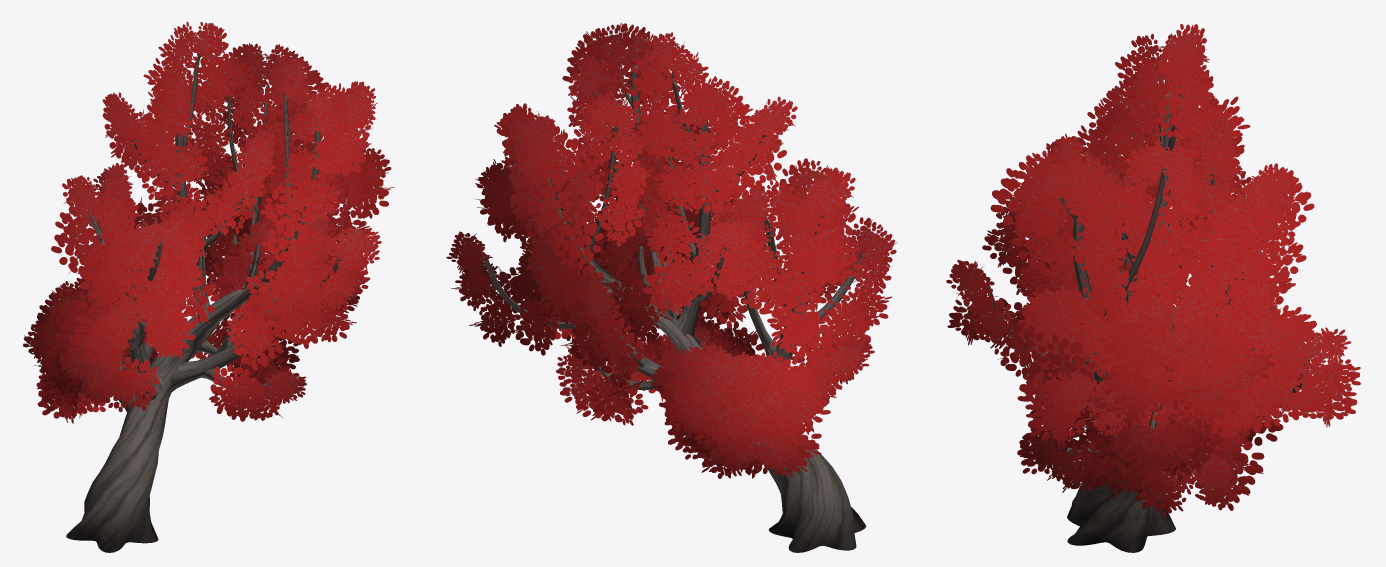
Rendered from TwistedTree_1.glb.
3 renders of one model, left to right at view 1: azimuth 30°, elevation 25°; view 2: azimuth 150°, elevation 25°; view 3: azimuth 270°, elevation 25°, orthographic. The views are drawn at different scales.
Visible parts, largest first — view 1: TwistedTree_1; view 2: TwistedTree_1; view 3: TwistedTree_1.
Boxes of the visible parts, bbox=[...] form: TwistedTree_1: bbox=[23, 21, 394, 552]; TwistedTree_1: bbox=[446, 22, 897, 552]; TwistedTree_1: bbox=[946, 24, 1360, 552].
Bounding box in the file's own units: 13.52 × 16.73 × 11.55.
2 materials, 2 textured.
